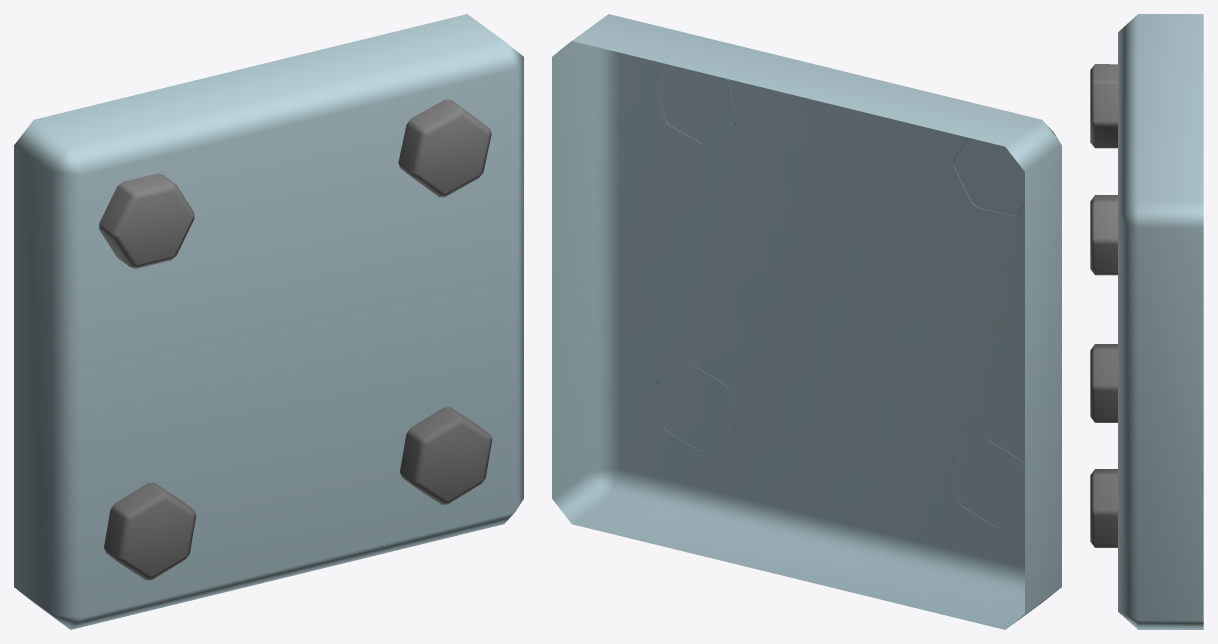
The model's file is SM_Factory_Panel_02.fbx.
3 renders of one model, left to right at view 1: azimuth 30°, elevation 25°; view 2: azimuth 150°, elevation 25°; view 3: azimuth 270°, elevation 25°, orthographic. The views are drawn at different scales.
Visible parts, largest first — view 1: pCylinder5; view 2: pCylinder5; view 3: pCylinder5.
Part boxes in pixels (left/top/right/bottom): pCylinder5: left=14, top=14, right=523, bottom=629; pCylinder5: left=552, top=14, right=1061, bottom=629; pCylinder5: left=1090, top=14, right=1203, bottom=629.
Size of the model in its own units: 51.87 by 12.12 by 50.65.
